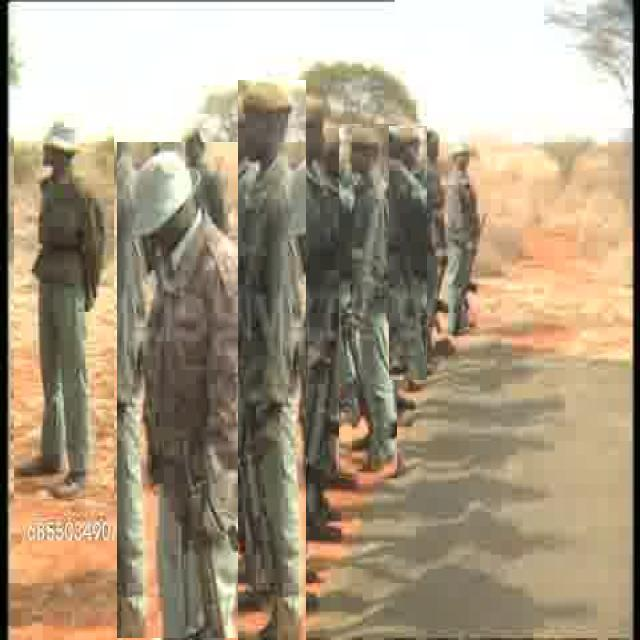poacher: (117, 142, 271, 638), (238, 80, 306, 640), (15, 116, 114, 500), (339, 124, 397, 478), (389, 127, 427, 380), (446, 142, 482, 334)
